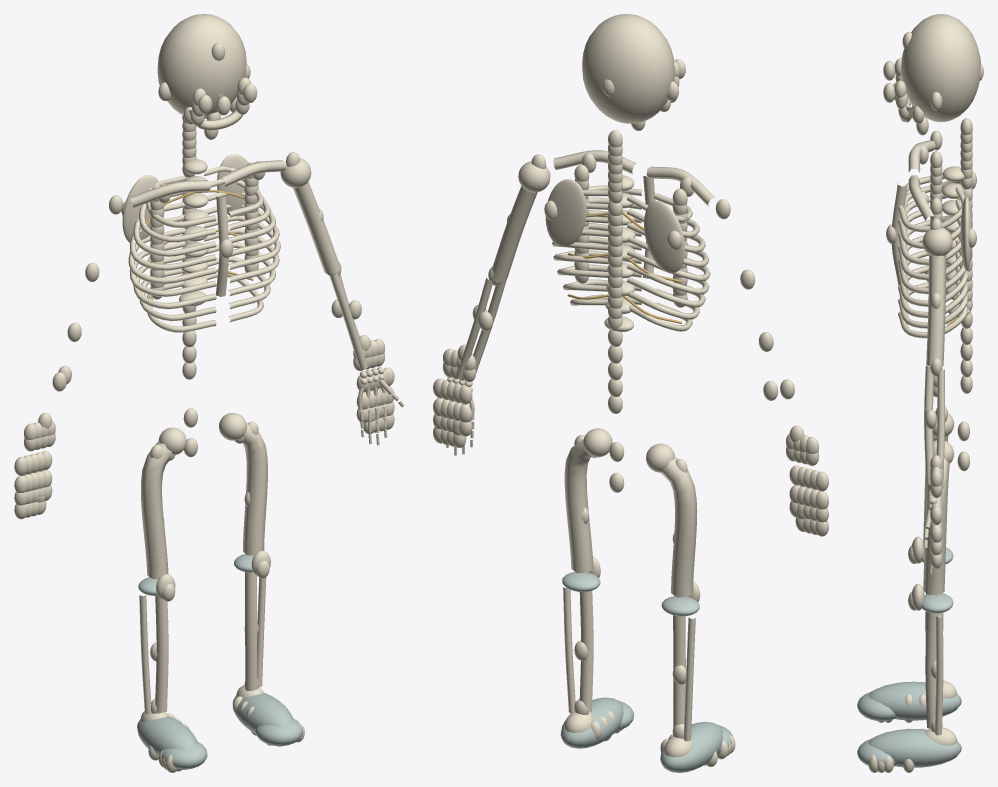
File: skeletal-body.glb
3 views of the same model, side by side, from view 1: azimuth 30°, elevation 25°; view 2: azimuth 150°, elevation 25°; view 3: azimuth 270°, elevation 25° (orthographic). The views are drawn at different scales.
Visible parts, largest first — view 1: skull-73, right-femur-113, femur-148, upper-arm-144, right-foot-17, tibia-152, foot-34, right-tibia-117, rib-cage-97, rib-cage-96, forearm-146, right-fibula-118 (+15 smaller); view 2: skull-73, right-femur-113, femur-148, rib-cage-132, rib-cage-97, right-foot-17, upper-arm-144, foot-34, tibia-152, right-tibia-117, fibula-153, right-fibula-118 (+6 smaller); view 3: skull-73, foot-34, right-foot-17, upper-arm-144, femur-148, tibia-152, fibula-153, forearm-146, forearm-147, upper-arm-145, rib-cage-132, right-foot-18 (+18 smaller).
Boxes of the visible parts, box(x1,y1,x2,y2) form: skull-73: box(157, 14, 246, 118); right-femur-113: box(141, 441, 171, 578); femur-148: box(242, 423, 267, 555); upper-arm-144: box(293, 181, 340, 274); right-foot-17: box(137, 716, 197, 755); tibia-152: box(245, 572, 257, 690); foot-34: box(232, 693, 292, 733); right-tibia-117: box(155, 596, 168, 712); rib-cage-97: box(122, 175, 158, 242); rib-cage-96: box(130, 180, 210, 207); forearm-146: box(329, 273, 367, 370); right-fibula-118: box(139, 595, 151, 714); skull-73: box(582, 14, 674, 123); right-femur-113: box(661, 456, 697, 597); femur-148: box(564, 439, 593, 572); rib-cage-132: box(545, 179, 586, 246); rib-cage-97: box(644, 201, 684, 273); right-foot-17: box(660, 721, 723, 772); upper-arm-144: box(492, 186, 537, 281); foot-34: box(560, 697, 623, 748); tibia-152: box(579, 591, 593, 712); right-tibia-117: box(673, 615, 685, 727); fibula-153: box(563, 587, 575, 713); right-fibula-118: box(683, 617, 695, 741); skull-73: box(901, 14, 980, 122); foot-34: box(868, 729, 961, 767); right-foot-17: box(868, 681, 961, 720); upper-arm-144: box(926, 255, 946, 366); femur-148: box(923, 457, 949, 595); tibia-152: box(925, 612, 938, 728); fibula-153: box(935, 616, 943, 735); forearm-146: box(924, 366, 934, 484); forearm-147: box(936, 369, 944, 487); upper-arm-145: box(922, 227, 952, 256); rib-cage-132: box(960, 196, 972, 270); right-foot-18: box(857, 691, 896, 721).
Size of the model in its own units: 3.25 by 5.83 by 0.92.
